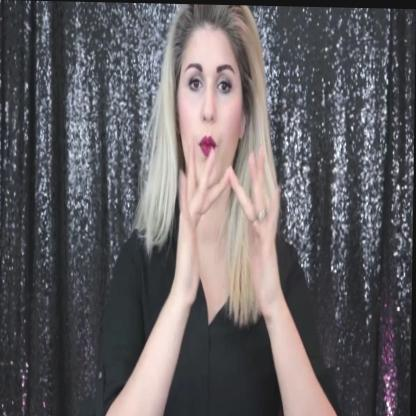Internet: (168, 132, 286, 313)
